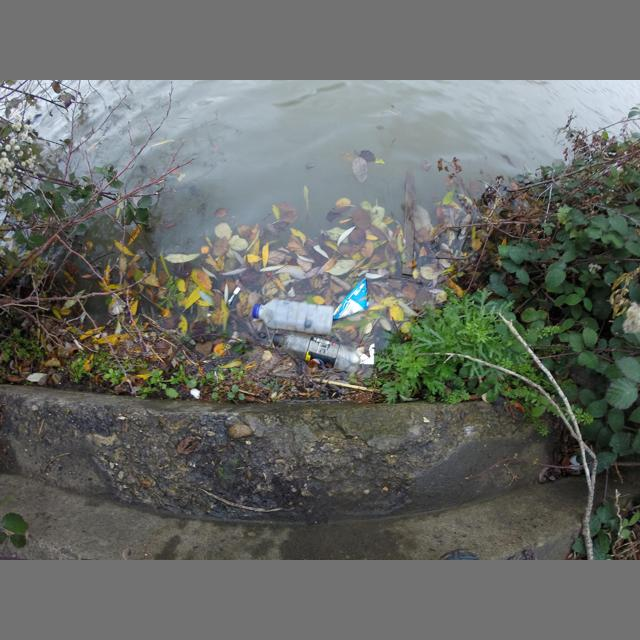litter: (273, 333, 362, 373), (252, 299, 334, 335), (334, 277, 369, 320), (359, 343, 375, 365), (227, 287, 241, 305), (253, 303, 260, 318), (273, 333, 280, 344)
